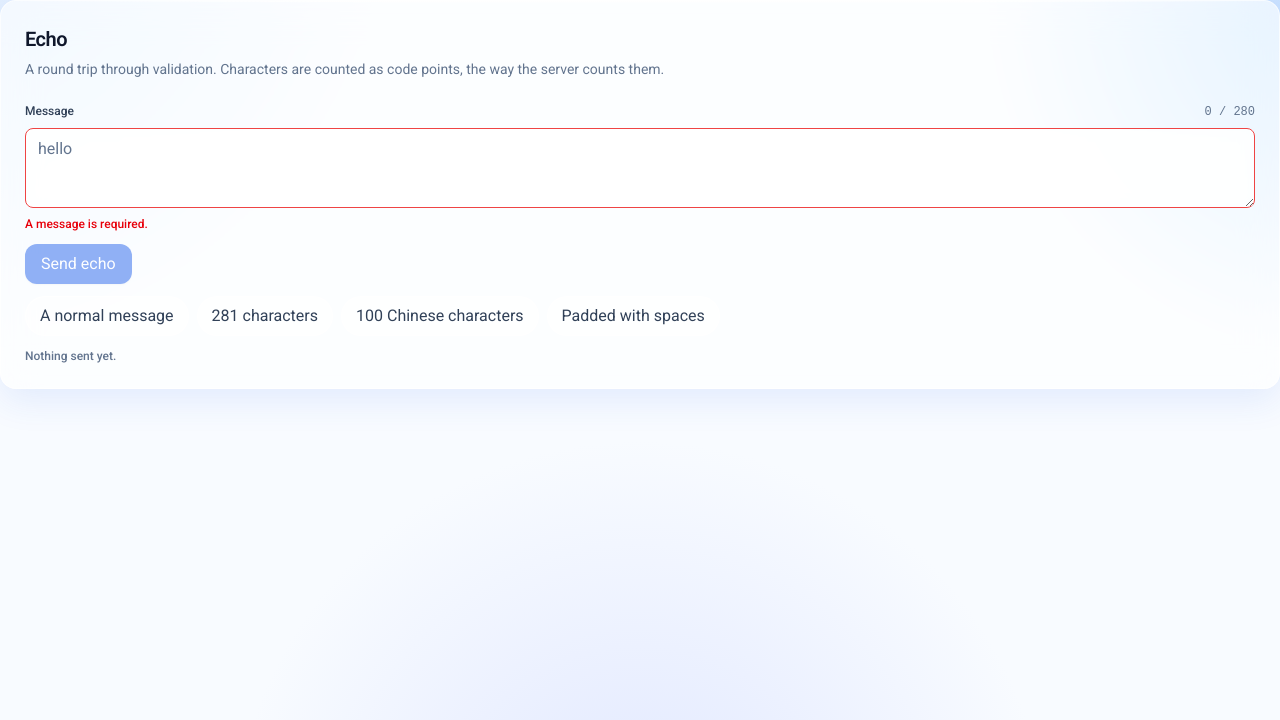
Test case: EchoPanel › counts code points, not UTF-16 units
Type "🙂🙂🙂🙂🙂" into the text box labelled "Message" at [640, 168], box x1=25 y1=128 x2=1255 y2=208
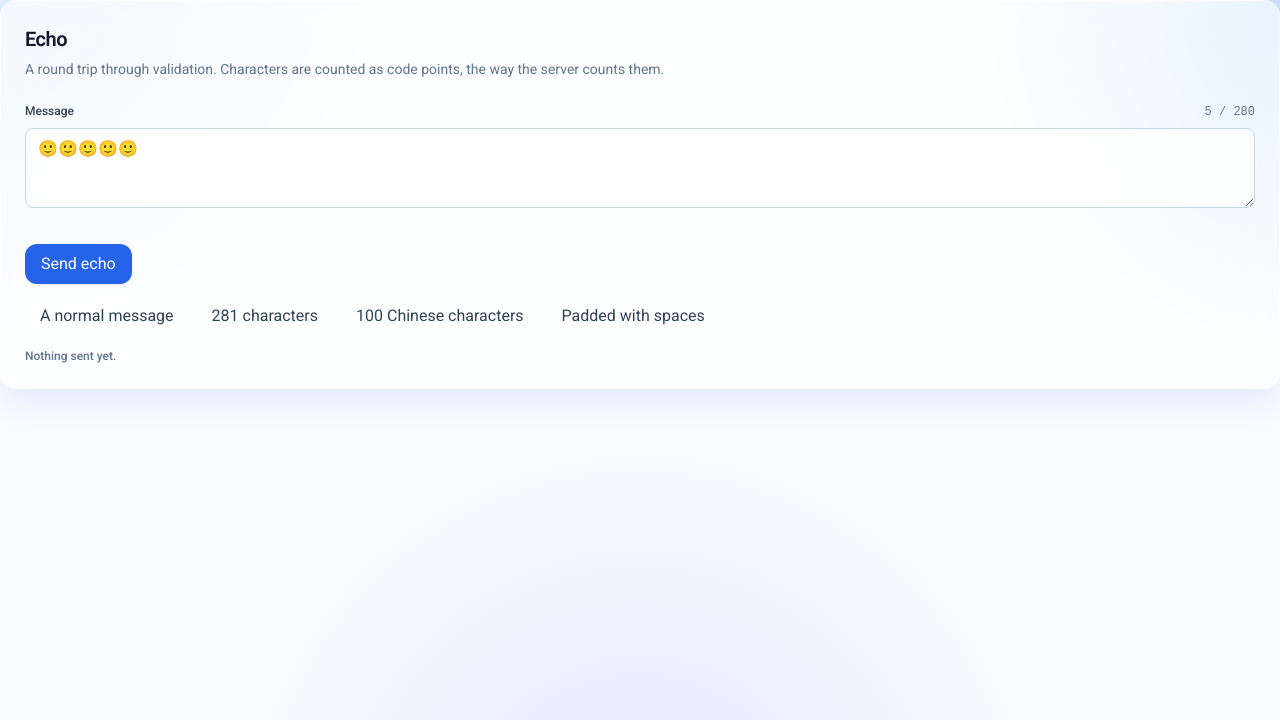
Expected: the text "5 / 280" is shown, x1=1205 y1=104 x2=1255 y2=120
